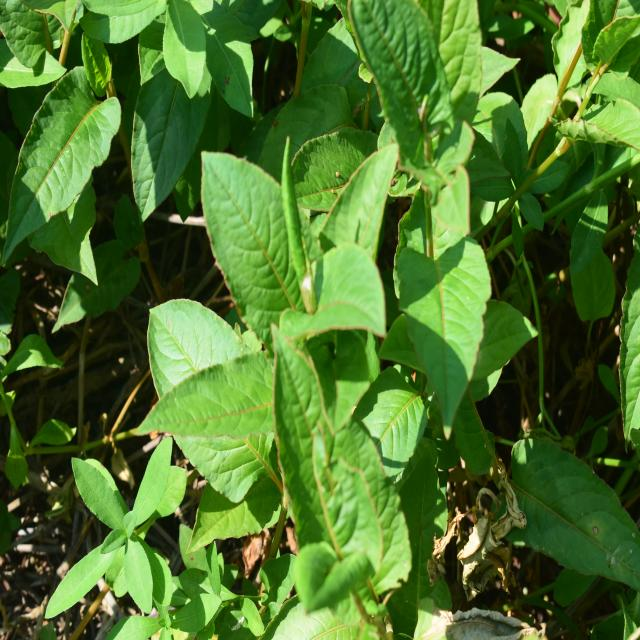Chinese_knotweed: (144, 146, 376, 507), (310, 0, 490, 411)
